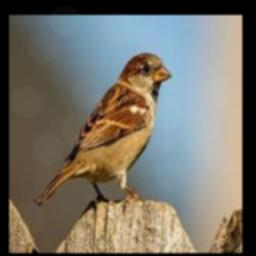Sparrow: (34, 53, 172, 206)
